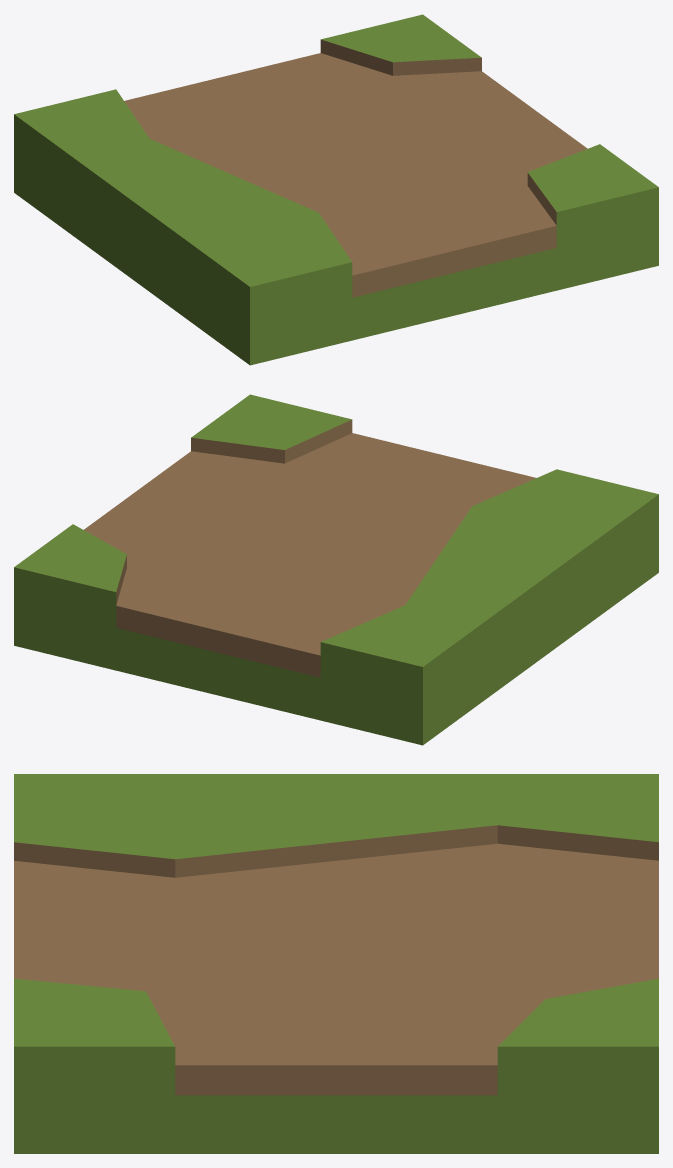
Rendered from roadTile_013.obj.
The picture shows the model from 3 angles, top to bottom: view 1: azimuth 30°, elevation 25°; view 2: azimuth 150°, elevation 25°; view 3: azimuth 270°, elevation 25°; orthographic projection. The views are drawn at different scales.
Visible parts, largest first — view 1: Mesh1_Group1_Model.102; view 2: Mesh1_Group1_Model.102; view 3: Mesh1_Group1_Model.102.
Part boxes in pixels (box(x1,y1,x2,y2)): Mesh1_Group1_Model.102: box(14, 14, 658, 365); Mesh1_Group1_Model.102: box(14, 394, 658, 745); Mesh1_Group1_Model.102: box(14, 774, 658, 1153).
Bounding box in the file's own units: 3 × 0.55 × 3.
